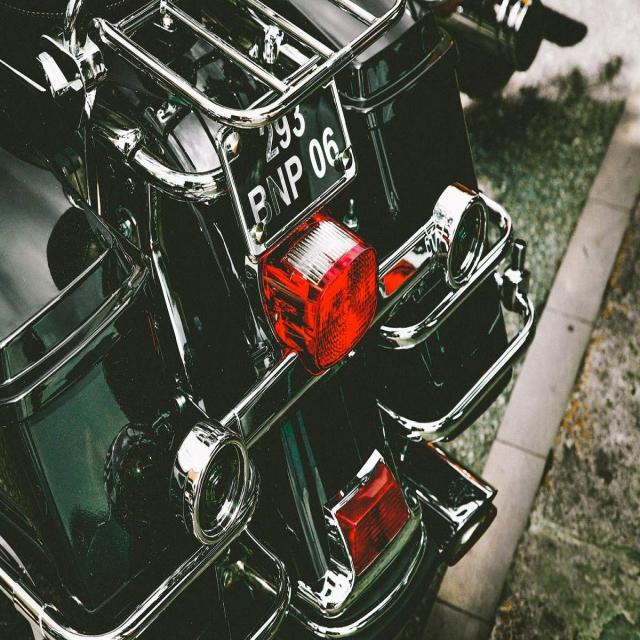license_plate: (222, 72, 358, 258)
